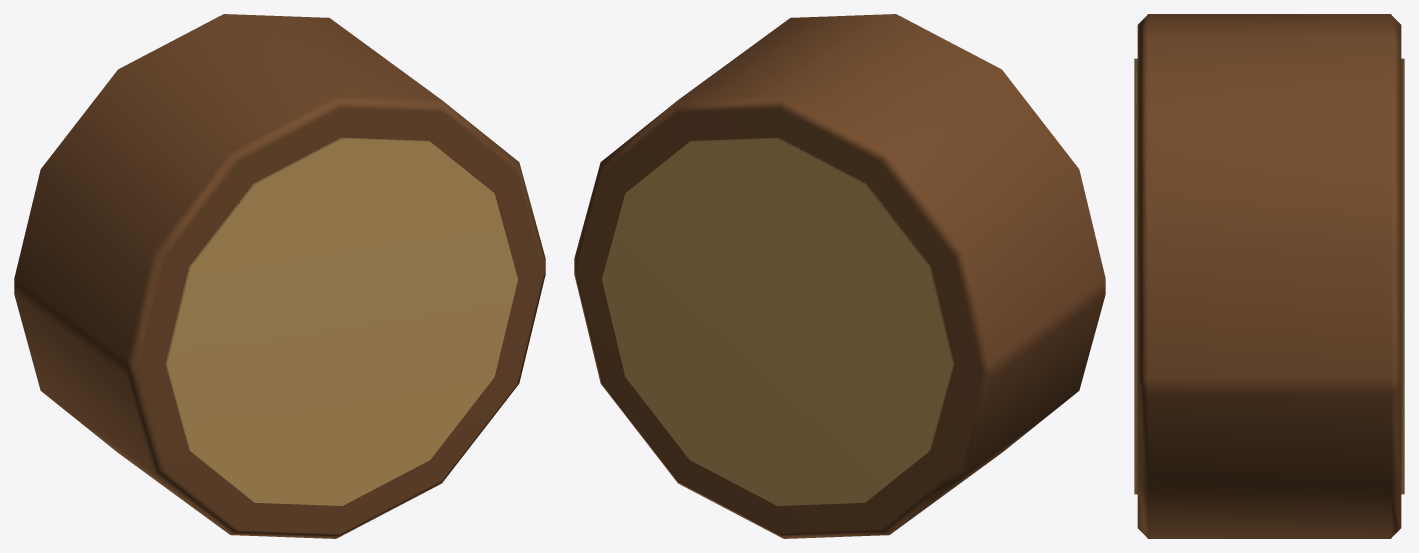
The model's file is log.glb.
3 renders of one model, left to right at view 1: azimuth 30°, elevation 25°; view 2: azimuth 150°, elevation 25°; view 3: azimuth 270°, elevation 25°, orthographic. The views are drawn at different scales.
Parts seen in each view (by area): view 1: log; view 2: log; view 3: log.
Part boxes in pixels (<box>): log: <box>14,14,545,538</box>; log: <box>574,14,1105,538</box>; log: <box>1134,14,1404,538</box>.
Size of the model in its own units: 1.98 by 2 by 1.03.
